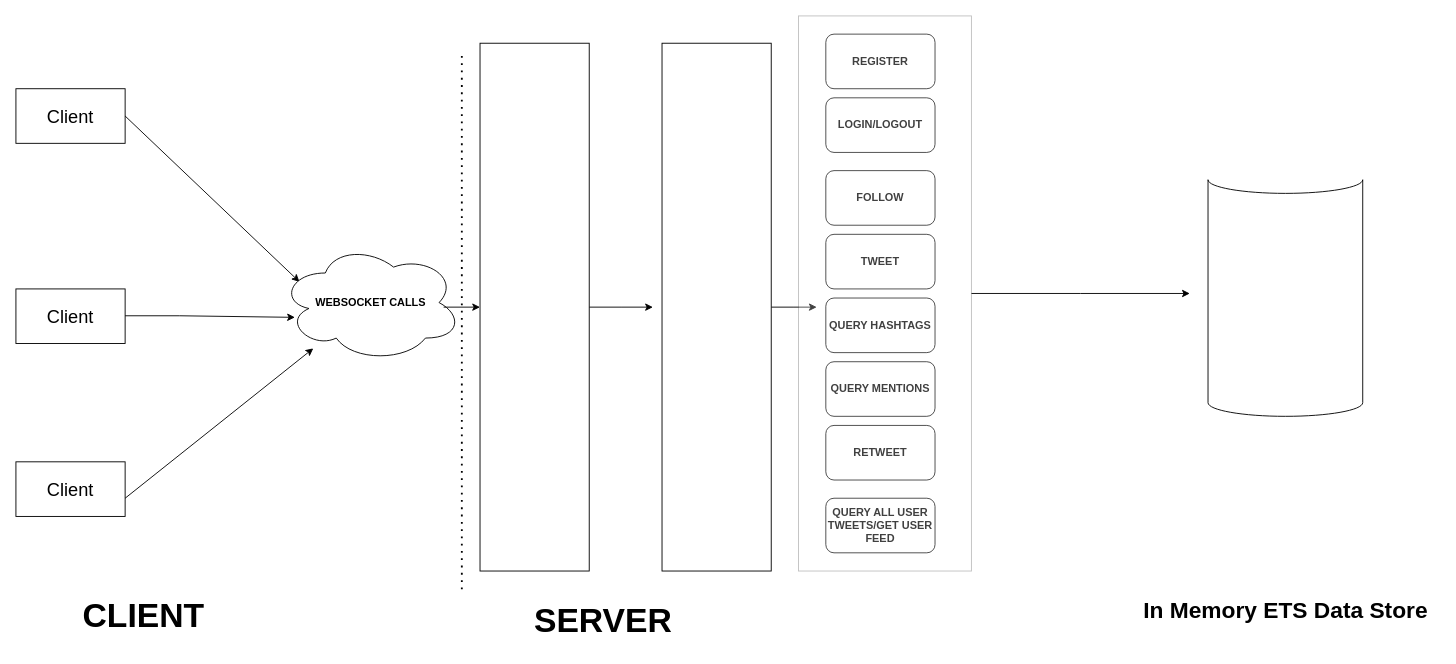
The diagram is 1456 pixels wide and 664 high, and some of its shapes have lost their labels. Each missing label, with the box of its shape:
API ROUTER: (479, 42, 589, 571)
DATA STORE: (1207, 179, 1363, 416)
MIDDLEWARE: (661, 42, 771, 571)
